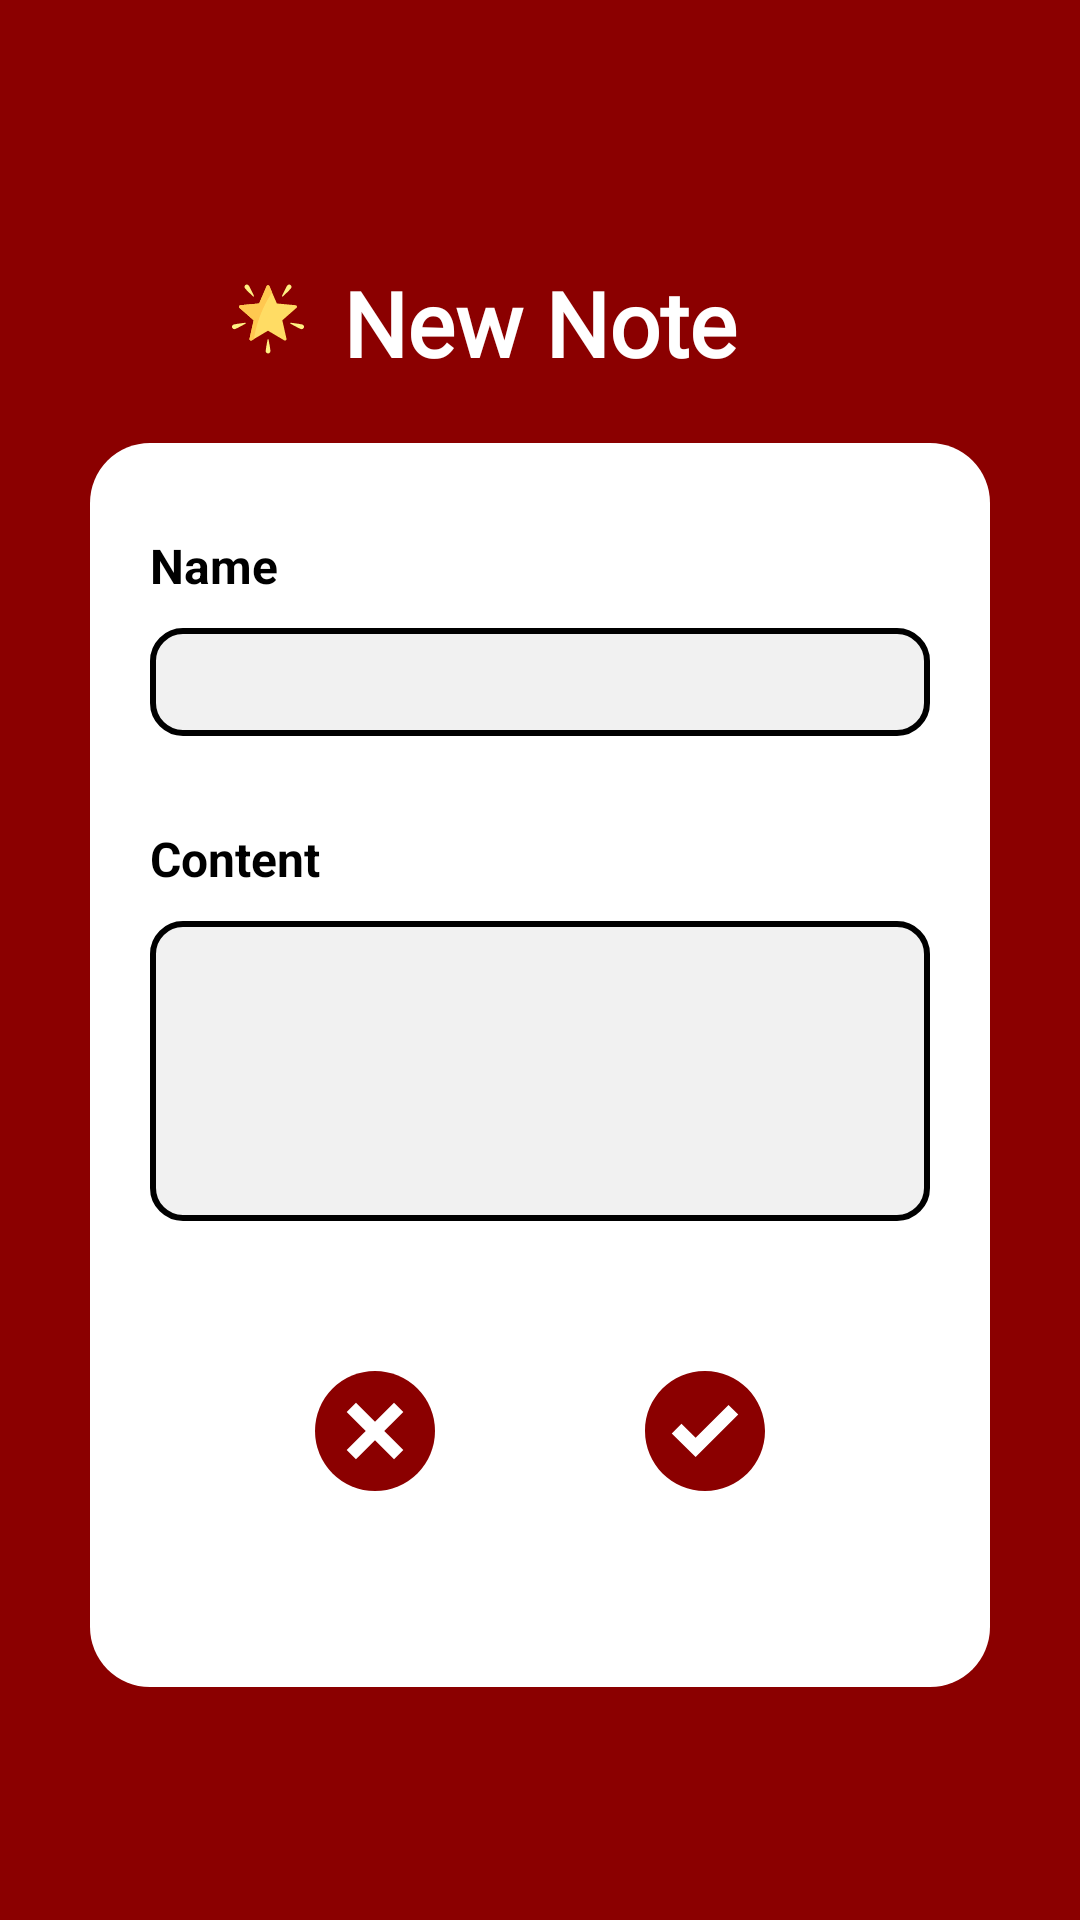

Locate icon controls on the screen. Image size 1080x1920, boxes as (x1, y1, x2, y2).
check: (645, 1371, 765, 1491)
star: (232, 284, 304, 354)
uncheck: (315, 1371, 435, 1491)
